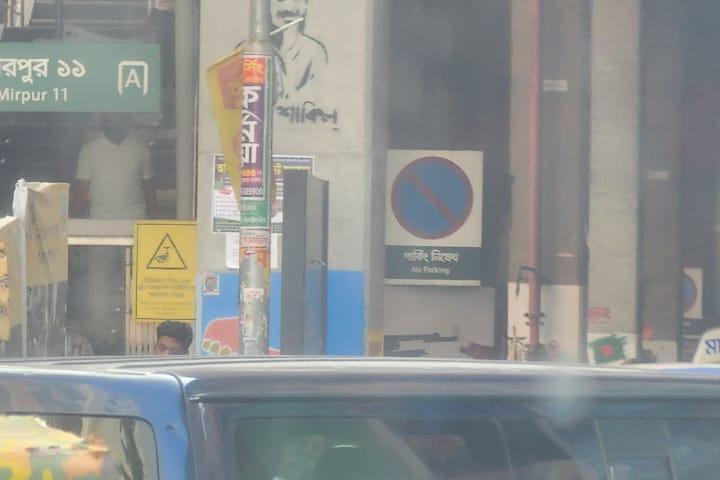No Parking: (385, 146, 487, 285)
